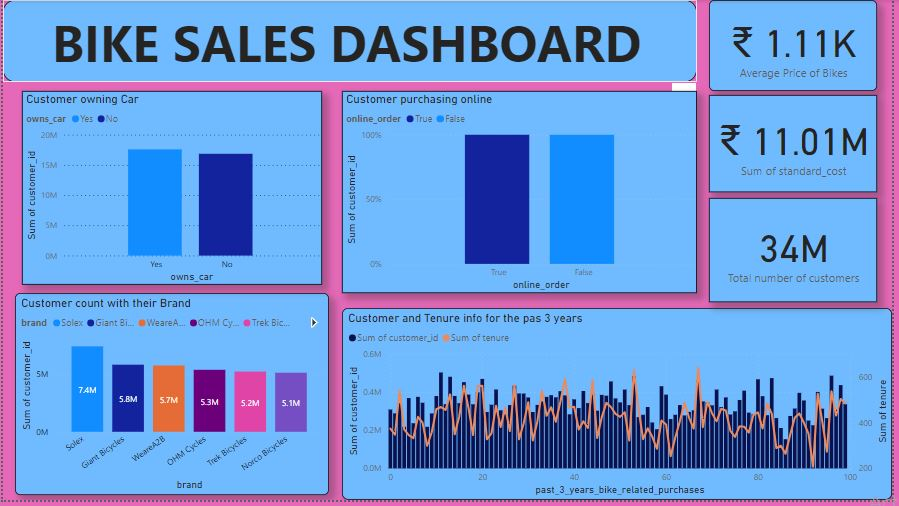

Layout of this report page (visuals, bound fields, positions):
{"tool":"powerbi","page":{"name":"Page 1","canvas":[1280,720],"ordinal":0},"visuals":[{"type":"columnChart","title":"Customer count with their Brand","fields":{"Y":["Sum(Transactions.customer_id)"],"Series":["Transactions.brand"],"Category":["Transactions.brand"]},"box":[17.3,421.9,452.2,290.9],"z":0},{"type":"card","fields":{"Values":["Avg(Transactions.list_price)"]},"box":[1016.6,0,241.9,131],"z":1000},{"type":"textbox","box":[0,0,999.4,118.1],"z":2000},{"type":"lineClusteredColumnComboChart","title":"Customer and Tenure info for the pas 3 years","fields":{"Category":["CustomerDemographic.past_3_years_bike_related_purchases"],"Y":["Sum(Transactions.customer_id)"],"Y2":["Sum(CustomerDemographic.tenure)"]},"box":[488.2,443.5,792,276.5],"z":3000},{"type":"columnChart","title":"Customer owning Car","fields":{"Y":["Sum(Transactions.customer_id)"],"Category":["CustomerDemographic.owns_car"],"Series":["CustomerDemographic.owns_car"]},"box":[27.4,131,432,279.4],"z":4000},{"type":"hundredPercentStackedColumnChart","title":"Customer purchasing online","fields":{"Category":["Transactions.online_order"],"Y":["Sum(Transactions.customer_id)"],"Series":["Transactions.online_order"]},"box":[488.2,131,511.2,290.9],"z":4001},{"type":"card","fields":{"Values":["Sum(Transactions.standard_cost)"]},"box":[1016.6,136.8,241.9,139.7],"z":4002},{"type":"card","fields":{"Values":["Sum(Transactions.customer_id)"]},"box":[1016.6,285.1,241.9,149.8],"z":4003}]}

Visuals, with their boxes in screenshot pixels (x1, y1, x2, y2), scaled from the page's 1280x720 canvas onto the 899x506 screenshot:
"Customer count with their Brand" columnChart: region(12, 297, 330, 501)
card - Avg(Transactions.list_price): region(714, 0, 884, 92)
textbox: region(0, 0, 702, 83)
"Customer and Tenure info for the pas 3 years" lineClusteredColumnComboChart: region(343, 312, 898, 505)
"Customer owning Car" columnChart: region(19, 92, 323, 288)
"Customer purchasing online" hundredPercentStackedColumnChart: region(343, 92, 702, 297)
card - Sum(Transactions.standard_cost): region(714, 96, 884, 194)
card - Sum(Transactions.customer_id): region(714, 200, 884, 306)
